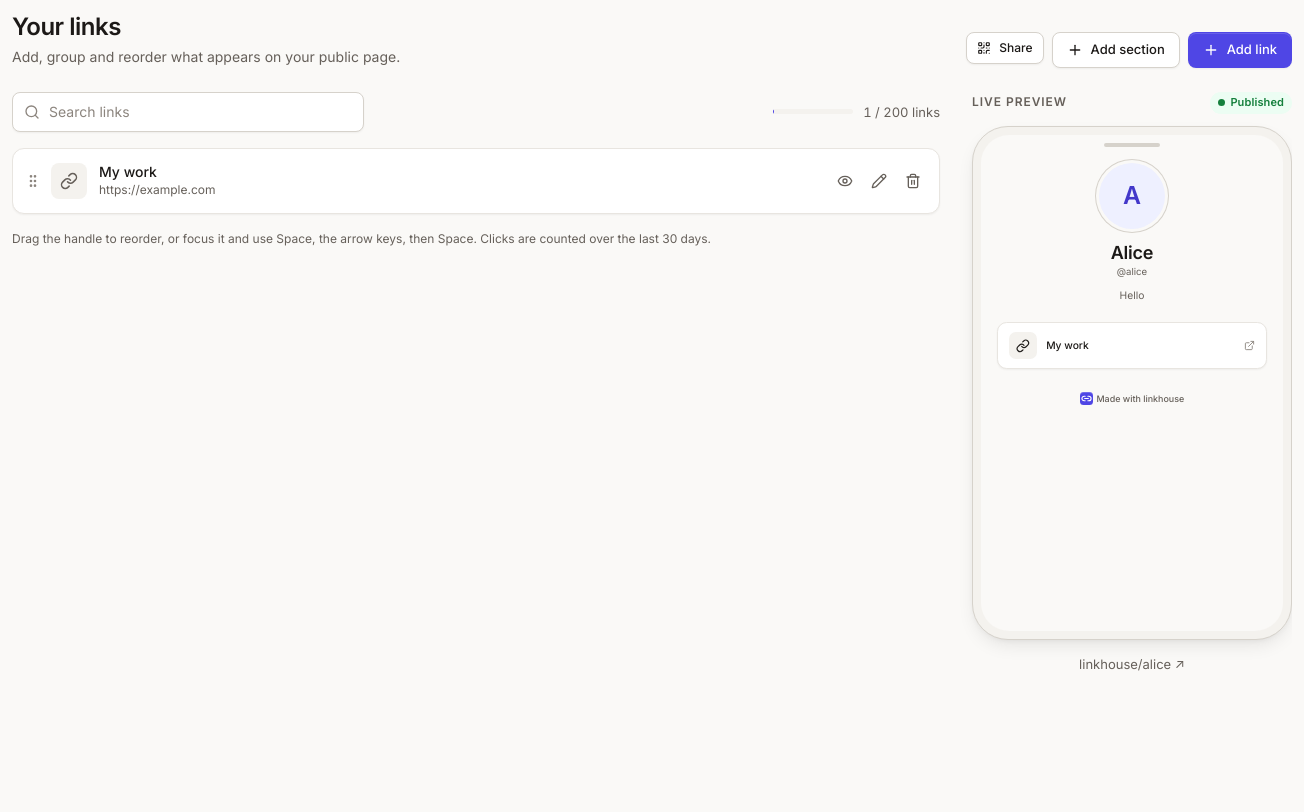
Test: filters links with the search field and explains an empty result
This screenshot has width=1304, height=812.
Type "zzz" into the search field labelled "Search links" at (188, 112), box [12, 92, 364, 132]
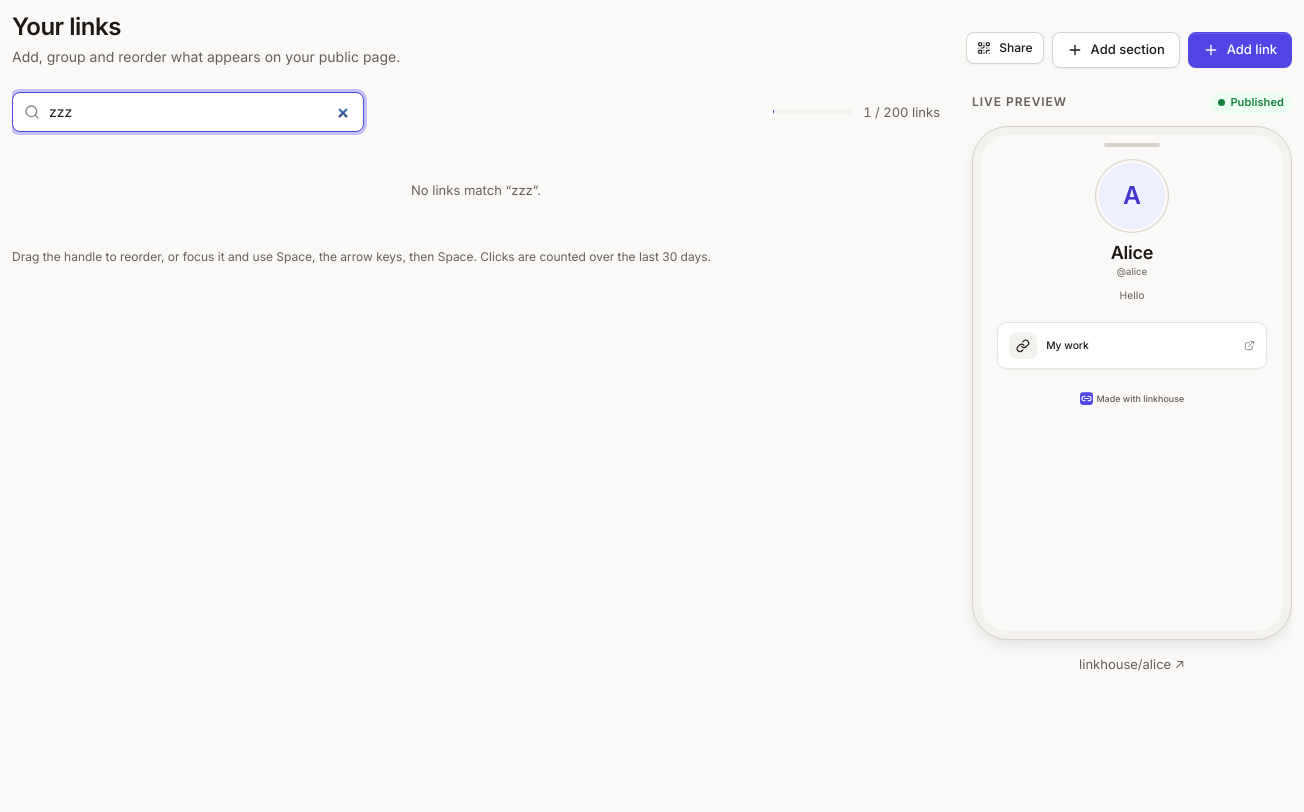
expect the text "No links match “zzz”." is shown: met, box [411, 182, 541, 198]
